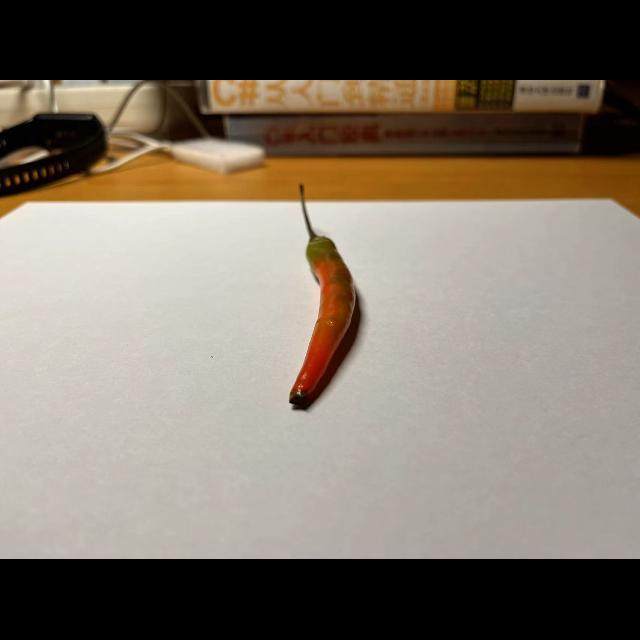chili_pepper: (286, 205, 360, 414)
